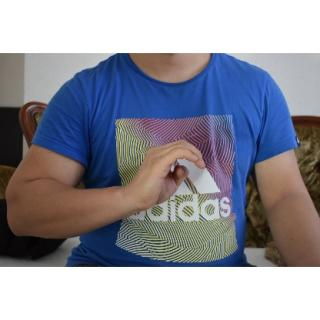JEEM: (118, 136, 217, 214)
